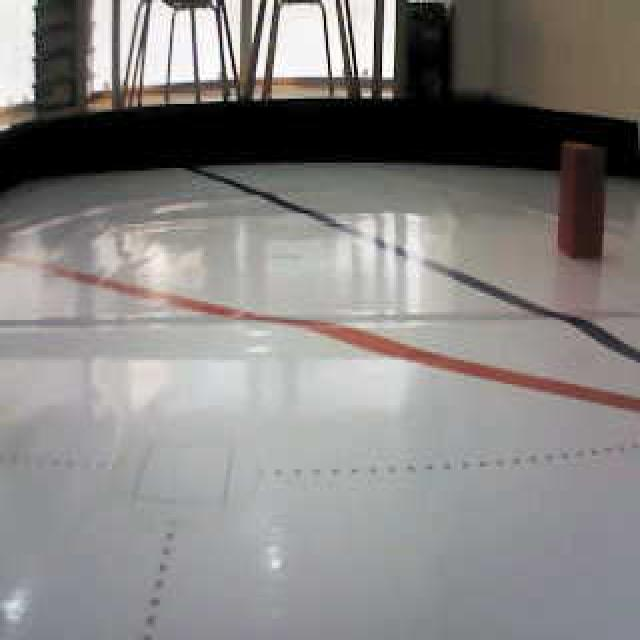azul: (232, 164, 423, 278)
naranja: (368, 320, 507, 407)
rojo: (555, 134, 620, 270)
